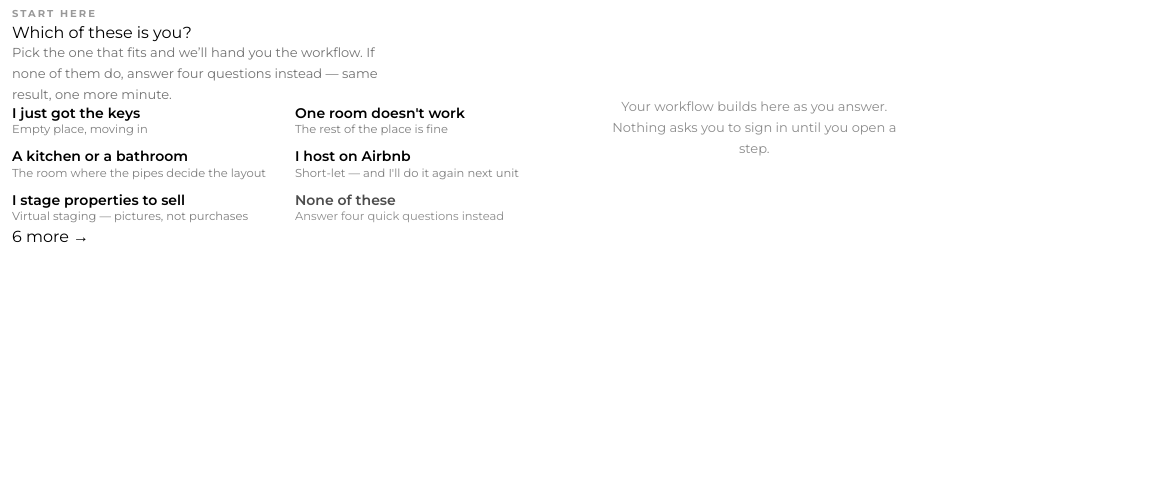
it: picking an identity › start over goes back to the identities
Click the button "I just got the keys Empty place, moving in" at (148, 122), box [12,105,285,138]
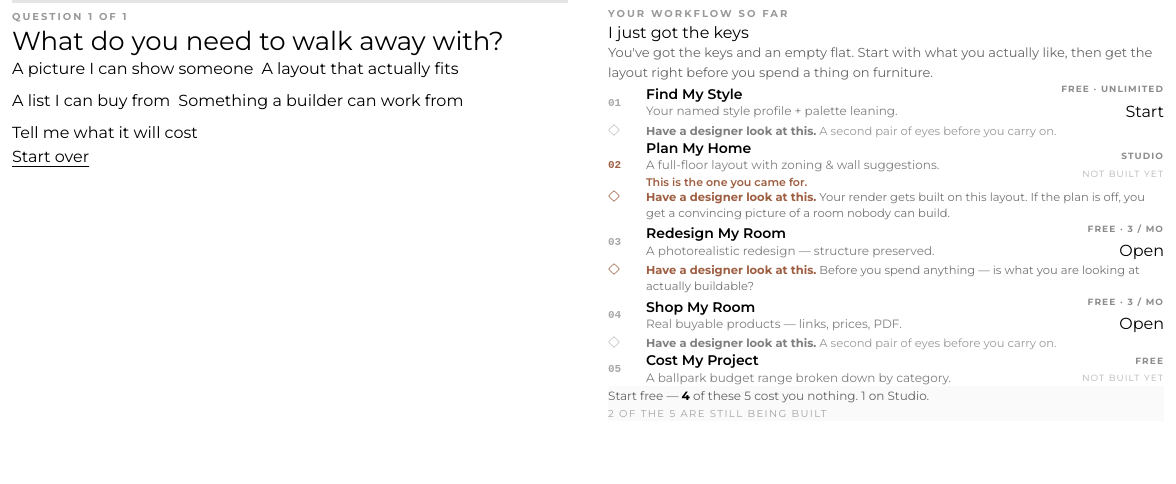
Click the button "Start over" at (51, 157), box [12,145,89,169]
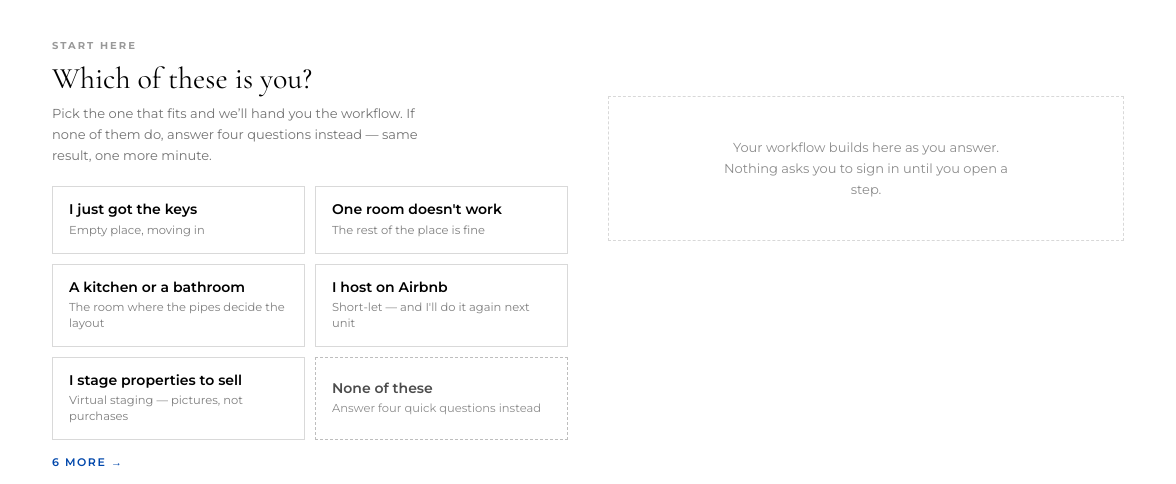
Expected: the heading "Which of these is you?" is shown, [52,60,312,97]
